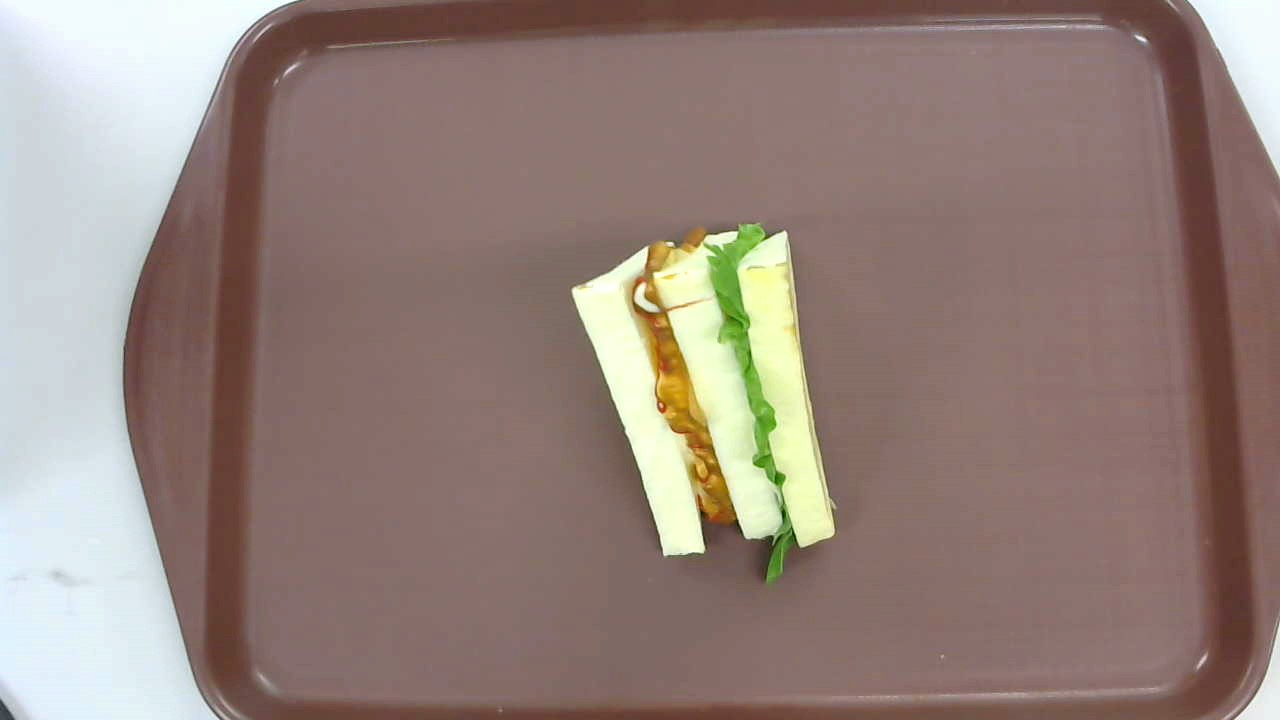sandwich: (570, 223, 839, 584)
